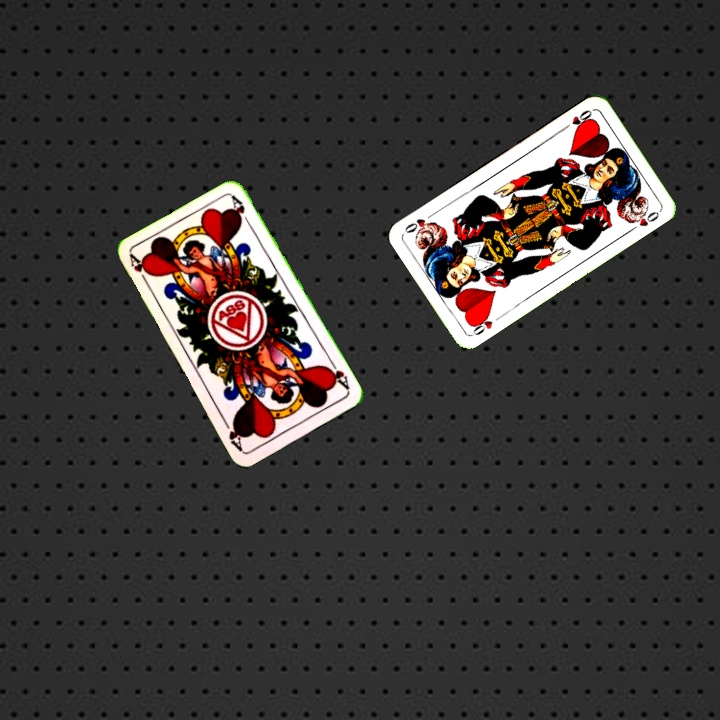HA: (321, 356, 352, 393), (126, 251, 155, 289)
HO: (467, 310, 504, 338), (559, 106, 595, 133)
